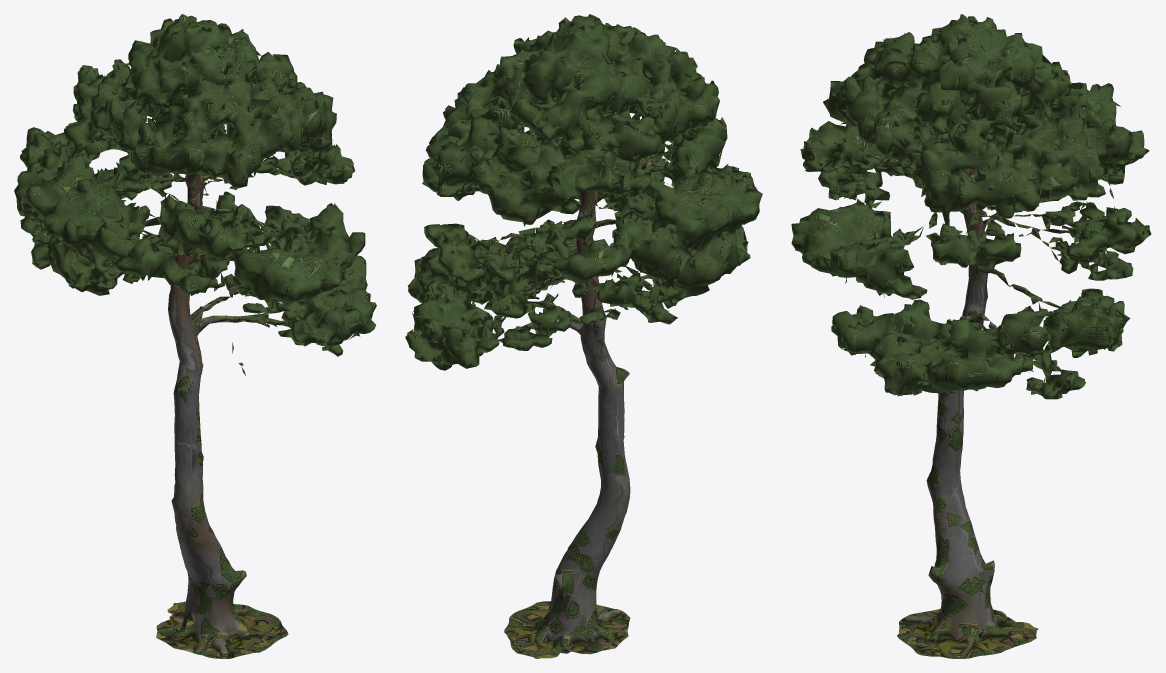
The model's file is cypress__cypress-tree-swaney.glb.
The picture shows the model from 3 angles, left to right: view 1: azimuth 30°, elevation 25°; view 2: azimuth 150°, elevation 25°; view 3: azimuth 270°, elevation 25°; orthographic projection.
Size of the model in its own units: 1.05 by 1.9 by 1.03.
Materials: 1 (1 with a texture image).
